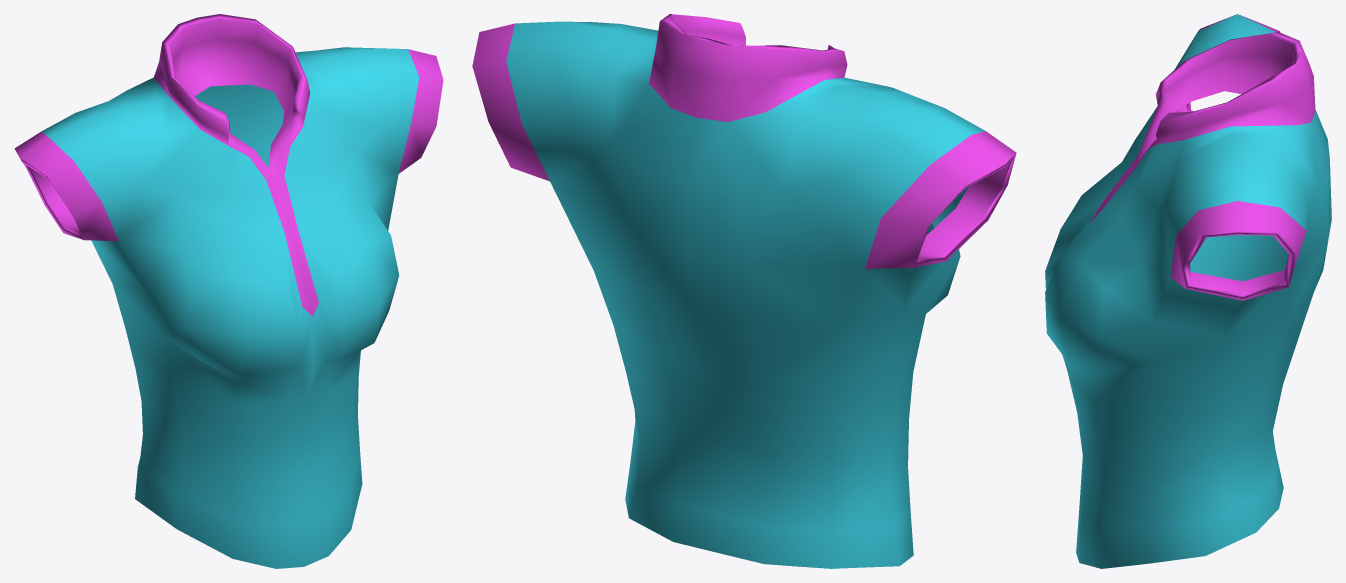
The model's file is dress2.fbx.
3 views of the same model, side by side, from view 1: azimuth 30°, elevation 25°; view 2: azimuth 150°, elevation 25°; view 3: azimuth 270°, elevation 25° (orthographic). The views are drawn at different scales.
Visible parts, largest first — view 1: FemaleBarbarianTunic:tunic; view 2: FemaleBarbarianTunic:tunic; view 3: FemaleBarbarianTunic:tunic.
Boxes of the visible parts, x1,y1,x2,y2 form: FemaleBarbarianTunic:tunic: [14, 14, 443, 568]; FemaleBarbarianTunic:tunic: [472, 14, 1016, 568]; FemaleBarbarianTunic:tunic: [1045, 14, 1331, 568].
Size of the model in its own units: 54.17 by 58.61 by 30.36.
